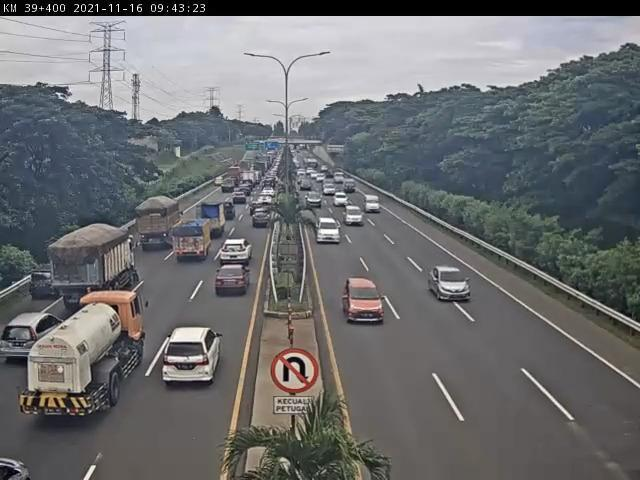car: (151, 327, 228, 389), (337, 271, 398, 336), (3, 303, 61, 368), (427, 256, 476, 311), (26, 260, 68, 306), (212, 262, 255, 300), (216, 236, 252, 271), (313, 216, 342, 247), (247, 206, 276, 233), (2, 450, 25, 480), (342, 203, 364, 232), (361, 192, 387, 216), (219, 199, 240, 223), (247, 199, 268, 219), (303, 191, 325, 209), (230, 190, 249, 209), (332, 190, 350, 209), (209, 174, 229, 190), (258, 196, 276, 212)
truck: (18, 290, 148, 425), (51, 221, 141, 314), (135, 195, 188, 249), (170, 220, 217, 267), (194, 198, 232, 240)
